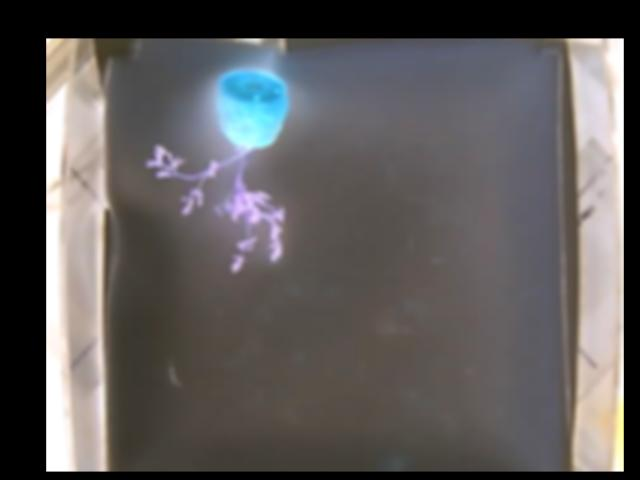Carrot: (145, 68, 286, 268)
